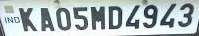character: (18, 6, 38, 32), (159, 2, 178, 28), (176, 2, 195, 27), (39, 6, 56, 32), (72, 6, 89, 31), (89, 5, 106, 30), (55, 5, 71, 30), (107, 4, 123, 29), (125, 4, 141, 29), (142, 4, 158, 28)
